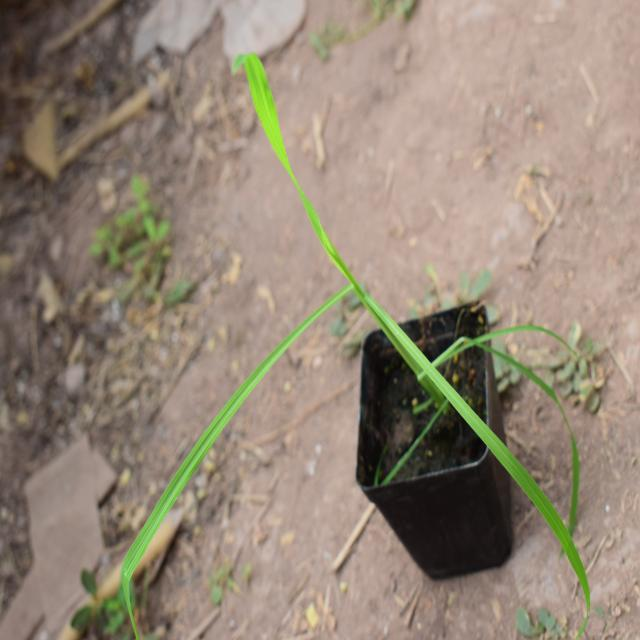barnyard_grass: (87, 74, 543, 577)
